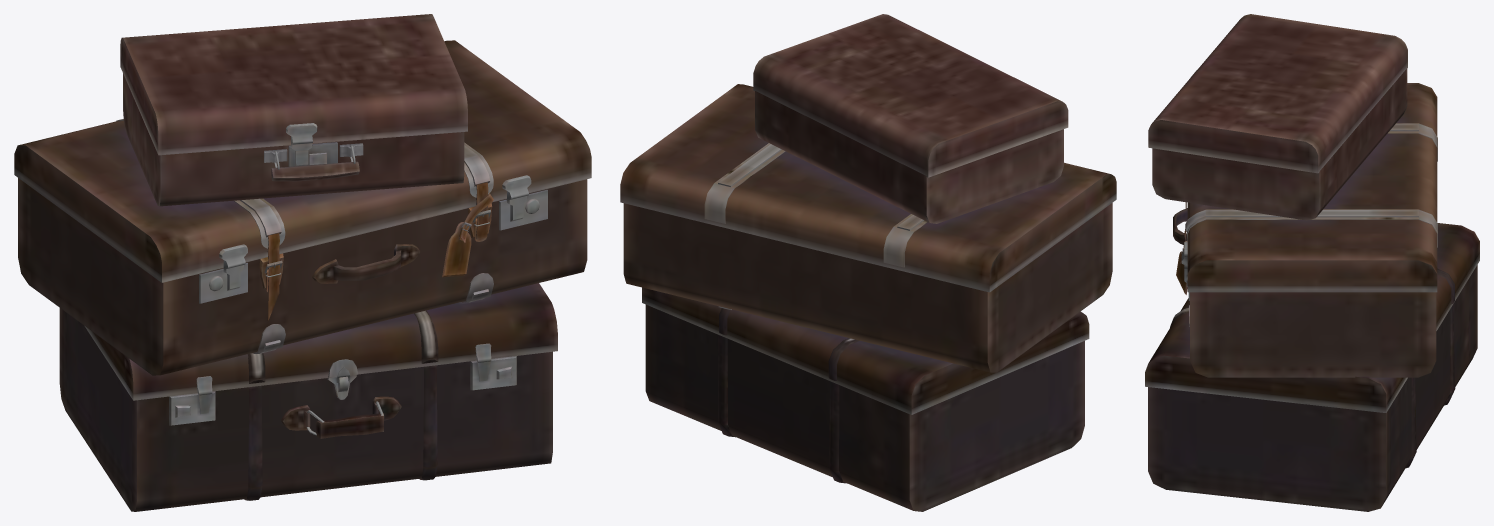
Rendered from suitcase-stack.glb.
3 renders of one model, left to right at view 1: azimuth 30°, elevation 25°; view 2: azimuth 150°, elevation 25°; view 3: azimuth 270°, elevation 25°, orthographic. The views are drawn at different scales.
Parts seen in each view (by area): view 1: b_low, a_low, c_low; view 2: b_low, a_low, c_low; view 3: b_low, a_low, c_low.
Part boxes in pixels (left/top/right/bottom): b_low: left=18, top=73, right=587, bottom=511; a_low: left=14, top=14, right=591, bottom=438; c_low: left=240, top=145, right=493, bottom=500; b_low: left=623, top=91, right=1112, bottom=511; a_low: left=620, top=14, right=1116, bottom=414; c_low: left=718, top=144, right=923, bottom=483; b_low: left=1148, top=68, right=1477, bottom=511; a_low: left=1145, top=14, right=1479, bottom=412; c_low: left=1170, top=124, right=1455, bottom=468.
Bounding box in the file's own units: 1 × 0.874 × 0.7881.
Materials: 1 (1 with a texture image).
